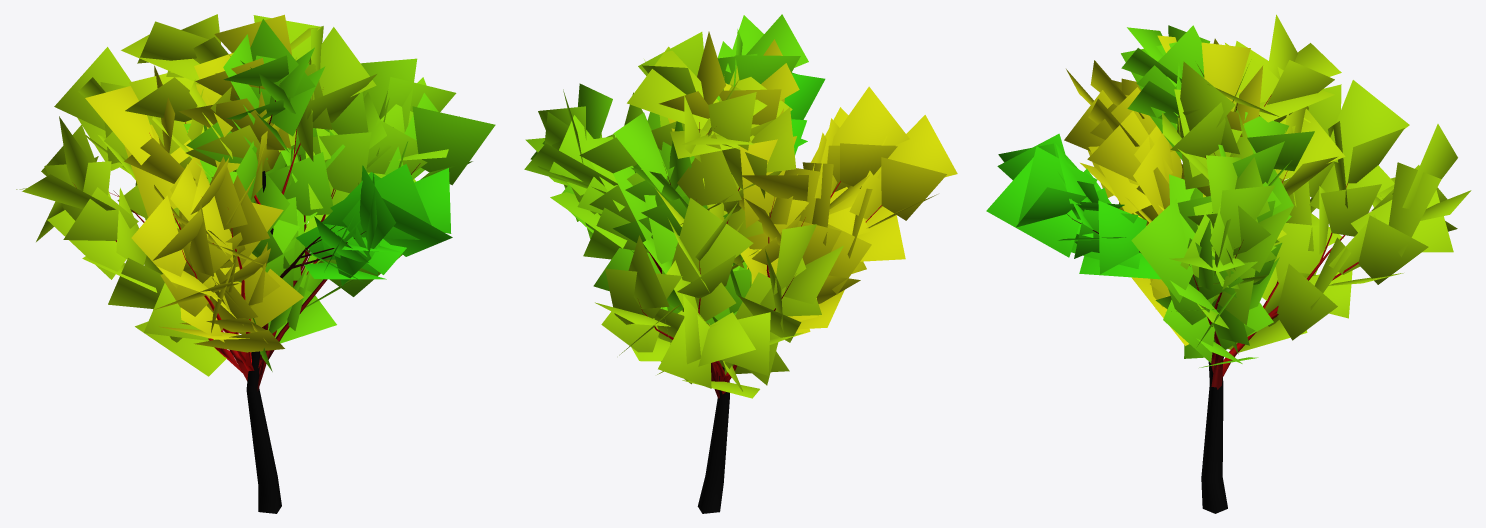
The model's file is tree_wide.glb.
3 views of the same model, side by side, from view 1: azimuth 30°, elevation 25°; view 2: azimuth 150°, elevation 25°; view 3: azimuth 270°, elevation 25° (orthographic). The views are drawn at different scales.
Visible parts, largest first — view 1: Tree_4__1_; view 2: Tree_4__1_; view 3: Tree_4__1_.
Boxes of the visible parts, <box> form: Tree_4__1_: <box>16,14,495,513</box>; Tree_4__1_: <box>524,14,957,513</box>; Tree_4__1_: <box>986,14,1471,513</box>.
Bounding box in the file's own units: 12.86 × 15.99 × 14.82.
